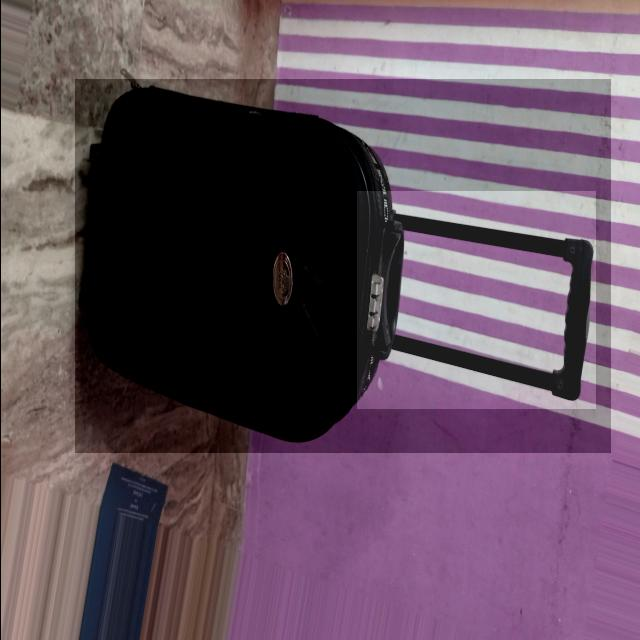Bag: (74, 83, 614, 452)
Handle: (357, 211, 595, 402)
